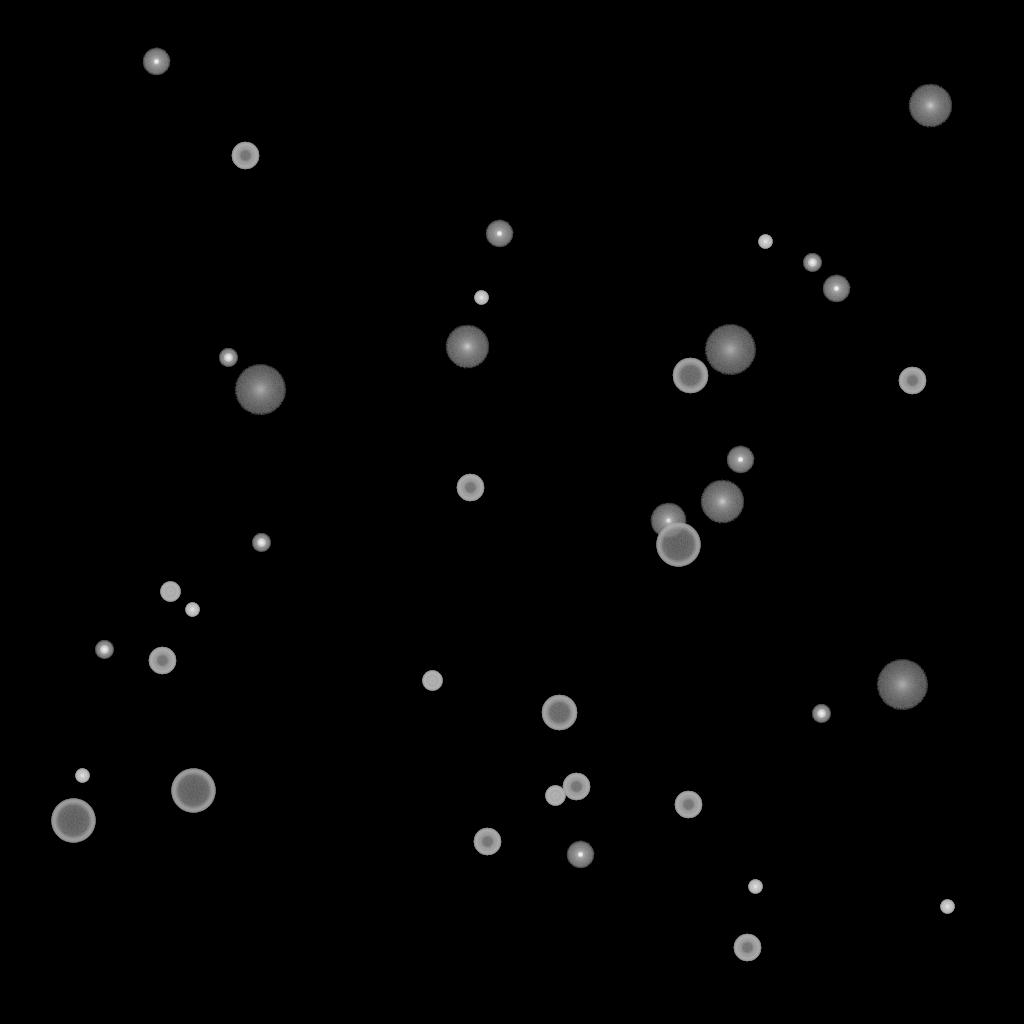depth:-10: (822, 275, 850, 303), (726, 446, 754, 474), (485, 220, 513, 248), (566, 841, 594, 869), (142, 48, 170, 76)
depth:-20: (219, 349, 237, 367), (812, 705, 830, 723), (252, 534, 270, 552), (803, 254, 821, 272), (95, 641, 113, 659)
depth:-30: (748, 880, 762, 894), (474, 291, 488, 305), (758, 235, 772, 249), (75, 769, 89, 783), (185, 603, 199, 617), (940, 900, 954, 914)
depth:-40: (422, 671, 442, 691), (160, 582, 180, 602), (545, 786, 565, 806)
depth:-50: (456, 474, 484, 502), (231, 142, 259, 170), (674, 791, 702, 819), (733, 934, 761, 962), (562, 773, 590, 801), (148, 647, 176, 675), (898, 367, 926, 395), (473, 828, 501, 856)
depth:-60: (672, 358, 708, 394), (541, 695, 577, 731)
depth:-70: (51, 799, 95, 843), (171, 769, 215, 813), (656, 523, 700, 567)
depth:0: (650, 503, 686, 539)
depth:10: (700, 480, 744, 524), (908, 84, 952, 128), (445, 325, 489, 369)
depth:20: (876, 660, 928, 710), (704, 325, 756, 375), (234, 365, 286, 415)
